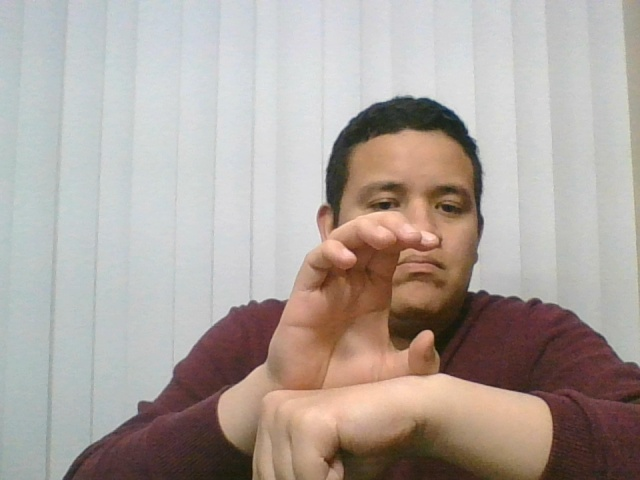Church: (223, 200, 465, 478)
